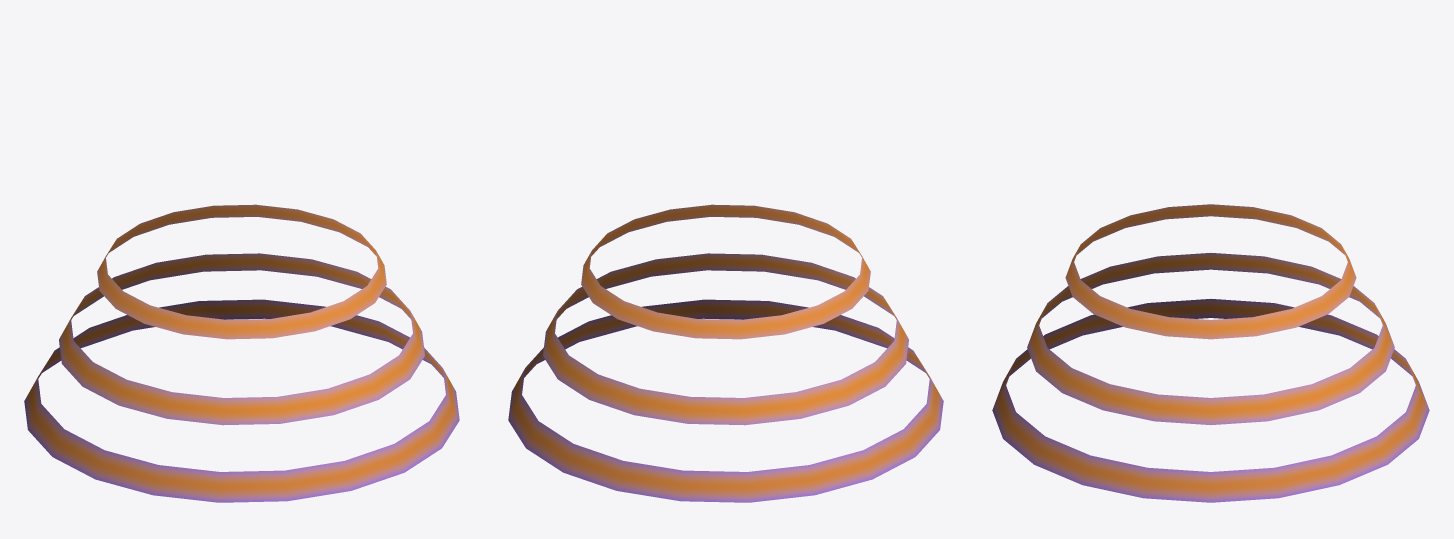
Rendered from AfterBurner_model.fbx.
3 renders of one model, left to right at view 1: azimuth 30°, elevation 25°; view 2: azimuth 150°, elevation 25°; view 3: azimuth 270°, elevation 25°, orthographic.
Visible parts, largest first — view 1: pCone1; view 2: pCone1; view 3: pCone1.
Boxes of the visible parts, x1,y1,x2,y2 form: pCone1: (24, 204, 459, 502); pCone1: (508, 204, 943, 502); pCone1: (992, 204, 1429, 502).
Bounding box in the file's own units: 20 × 20 × 20.
